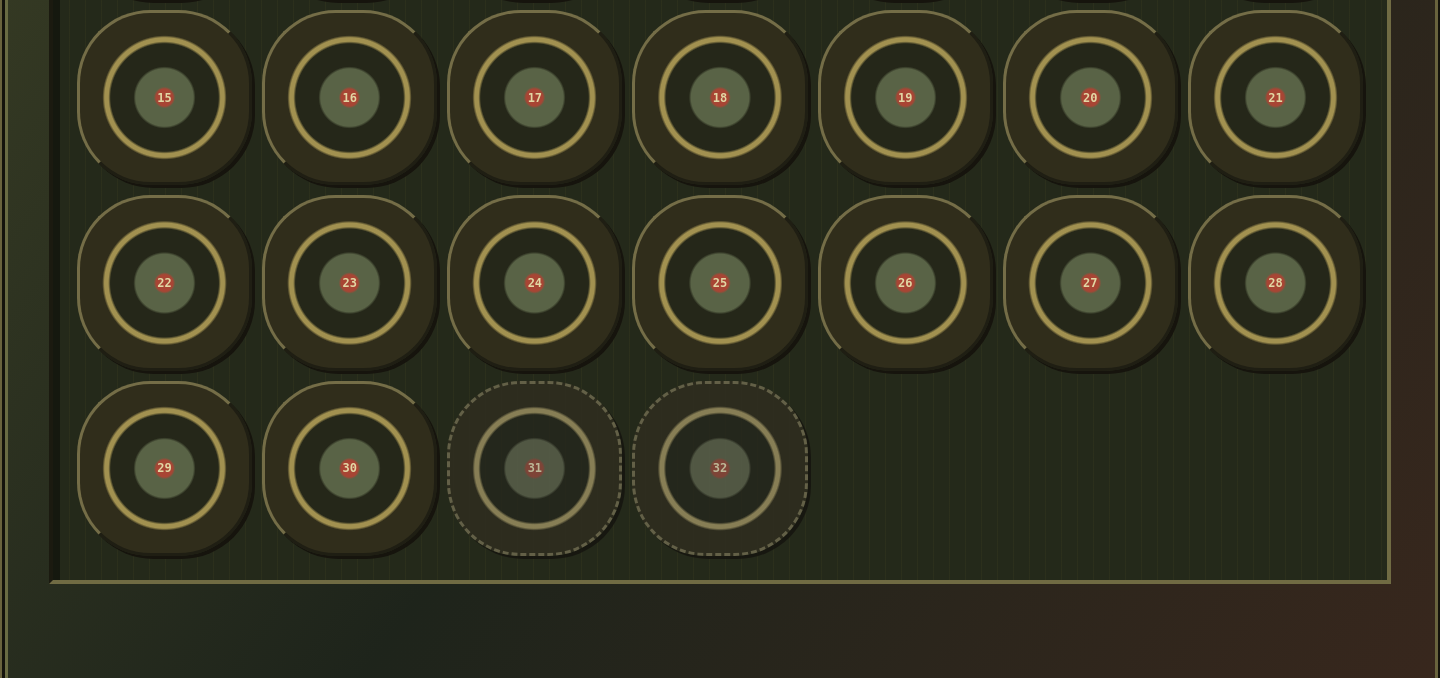
it: ShootingRange › rejects decoy dates without consuming ammunition
(page scrolled)
What coordinates should you click on to do the following:
click the button named "31 сентября — недействительная цель"
I would click on:
 (535, 468)
Its box is [447, 381, 622, 556].
(page scrolled)
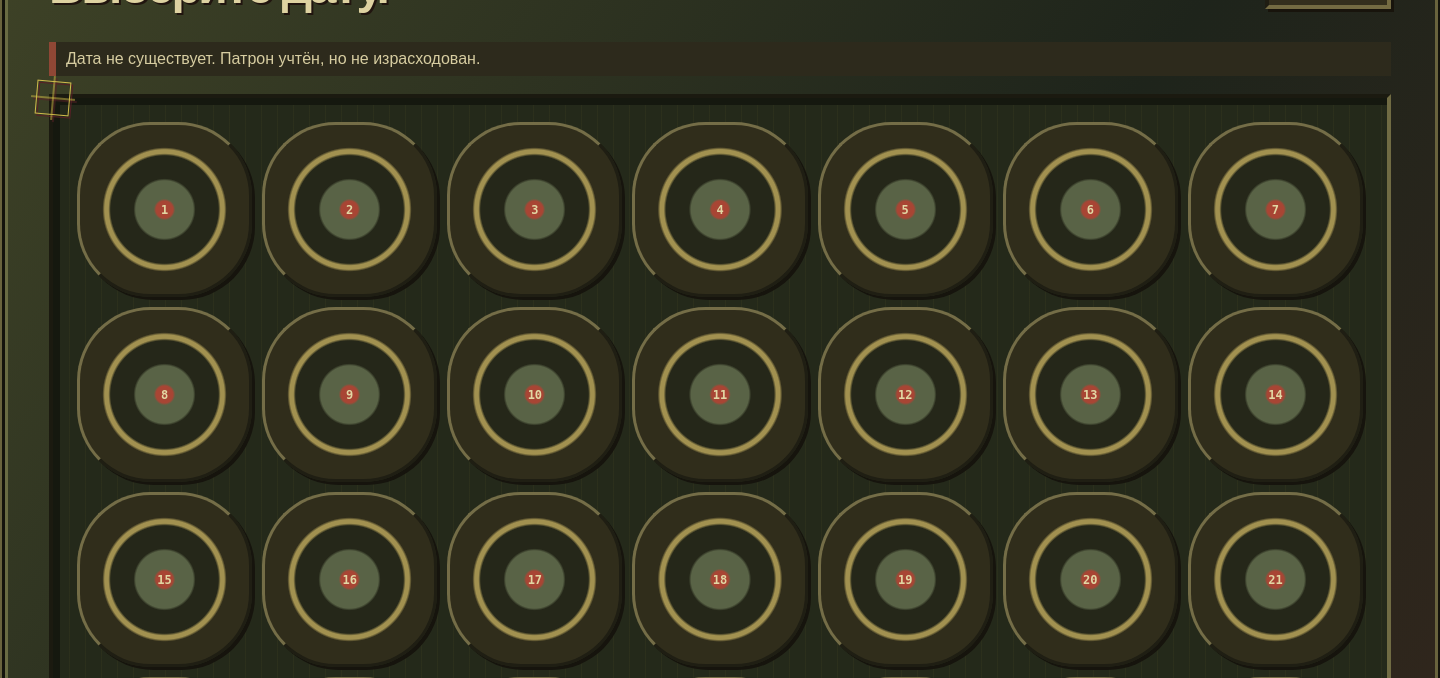
Expected: the message reads "Дата не существует. Патрон учтён, но не израсходован.", [66, 50, 480, 67]
